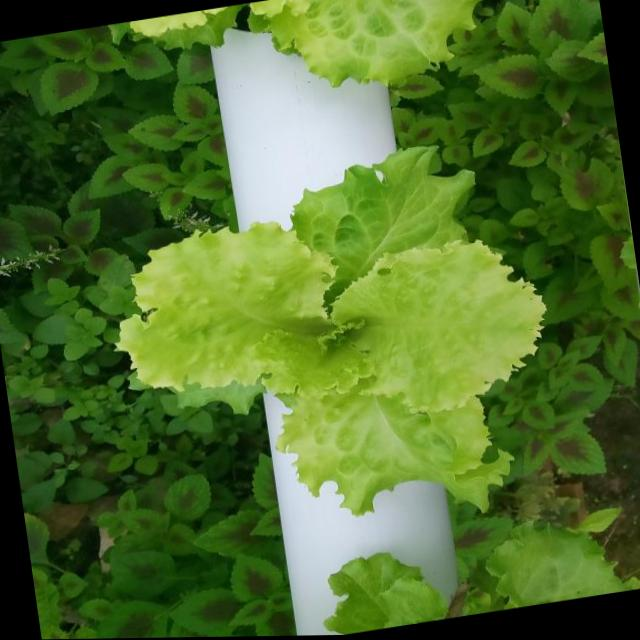Baby: (118, 147, 611, 515)
